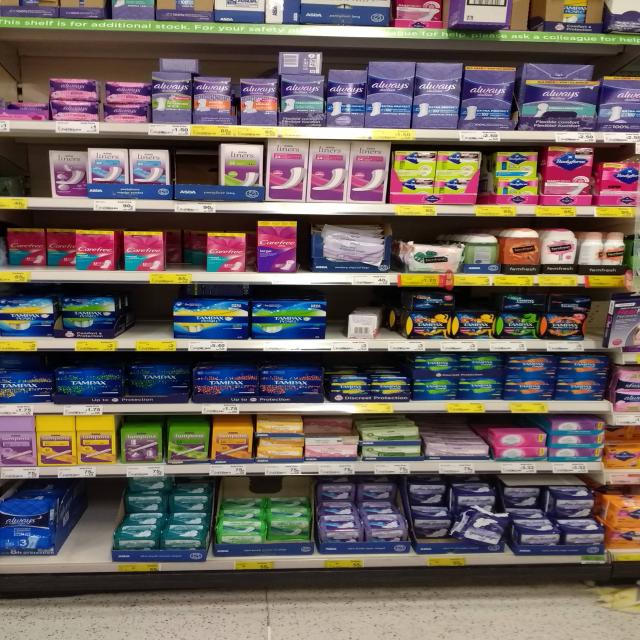void: (202, 271, 276, 355), (66, 480, 115, 560), (0, 141, 49, 198), (130, 286, 174, 338), (179, 143, 218, 192), (172, 216, 202, 271)
